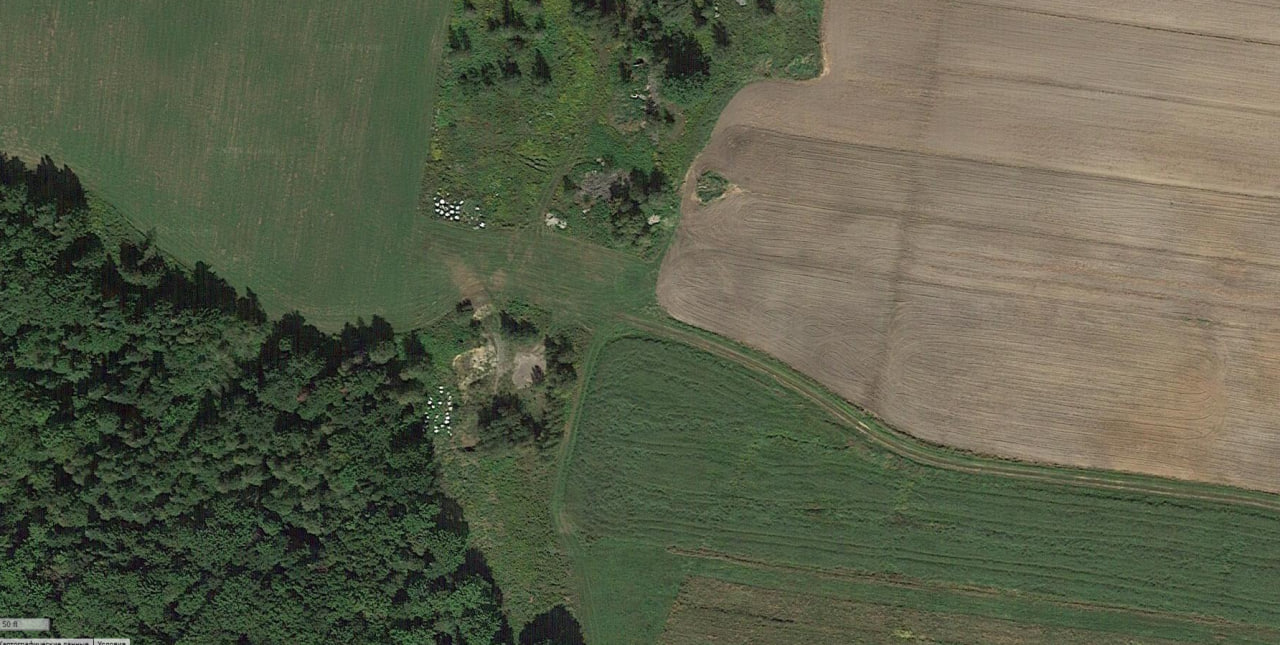Sown field: (563, 334, 1280, 645), (434, 404, 579, 645), (419, 322, 452, 378), (499, 390, 534, 421), (559, 381, 574, 433), (820, 392, 849, 410), (532, 372, 548, 396), (449, 322, 466, 334), (448, 340, 460, 355), (480, 398, 492, 406), (541, 330, 549, 339), (468, 330, 476, 335), (464, 315, 469, 321), (475, 340, 479, 344), (582, 341, 585, 344), (432, 382, 434, 384)
field: (657, 3, 1280, 492)
